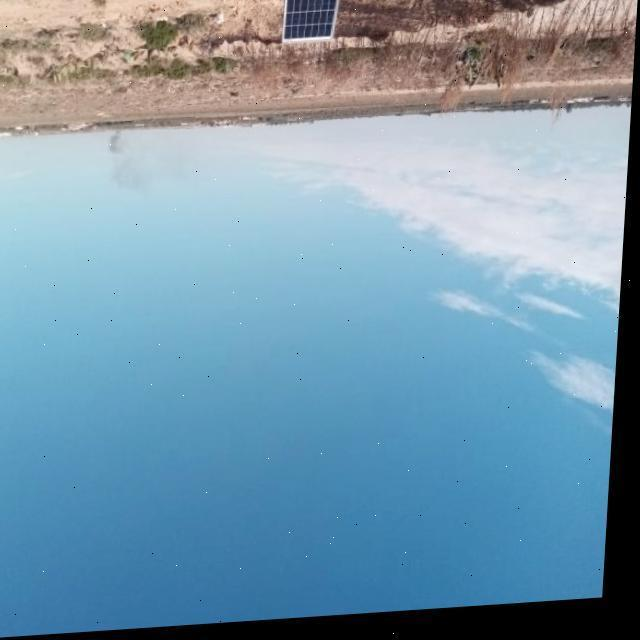Normal Solar Panel: (282, 0, 343, 48)
